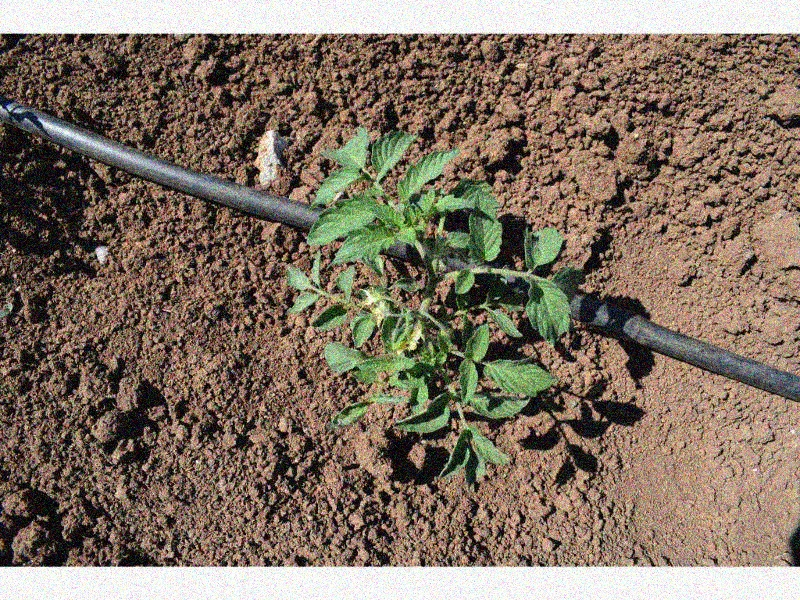tomato: (284, 124, 582, 489)
